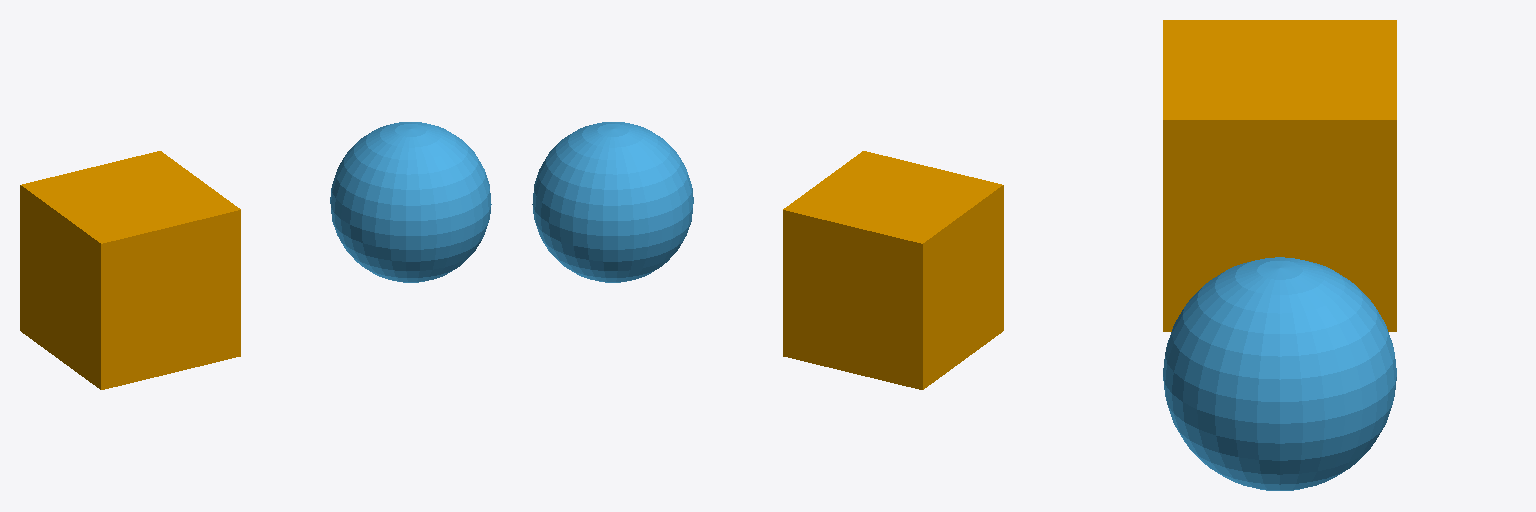
The robot description file, URDF, robot "warning_no_joint_k_velocity":
<robot name="warning_no_joint_k_velocity">
  <link name="BaseLink">
    <visual>
      <origin rpy="0 0 0" xyz="-2 0 0.5"/>
      <geometry>
        <box size="1 1 1"/>
      </geometry>
    </visual>
  </link>

  <link name="link2">
    <visual>
      <origin rpy="0 0 0" xyz="0 0 0.5"/>
      <geometry>
        <sphere radius="0.5"/>
      </geometry>
    </visual>
  </link>

  <joint name="JointA" type="fixed">
    <parent link="BaseLink"/>
    <child link="link2" />

    <!-- This is a deliberate mistake.  -->
    <!-- If k_velocity is not specified. -->
    <safety_controller k_position="3"/>
  </joint>
</robot>

--- Facts derived from the render (not from the file) ---
Views: 3 orthographic renders of the robot side by side, from view 1: azimuth 30°, elevation 25°; view 2: azimuth 150°, elevation 25°; view 3: azimuth 270°, elevation 25°.
Model warning_no_joint_k_velocity with 2 links and 1 joints (1 fixed), rooted at BaseLink, posed all joints at 0.
Visible links, largest first — view 1: BaseLink, link2; view 2: BaseLink, link2; view 3: BaseLink, link2.
Boxes of the visible links, left/top/right/bottom form: BaseLink: left=20, top=151, right=240, bottom=389; link2: left=330, top=122, right=491, bottom=282; BaseLink: left=783, top=151, right=1003, bottom=389; link2: left=532, top=122, right=693, bottom=282; BaseLink: left=1163, top=20, right=1396, bottom=331; link2: left=1163, top=257, right=1396, bottom=490.
Bounding box of the posed robot: 3 × 1 × 1 m (x, y, z).
Geometry: primitives only (box / cylinder / sphere), no mesh files.